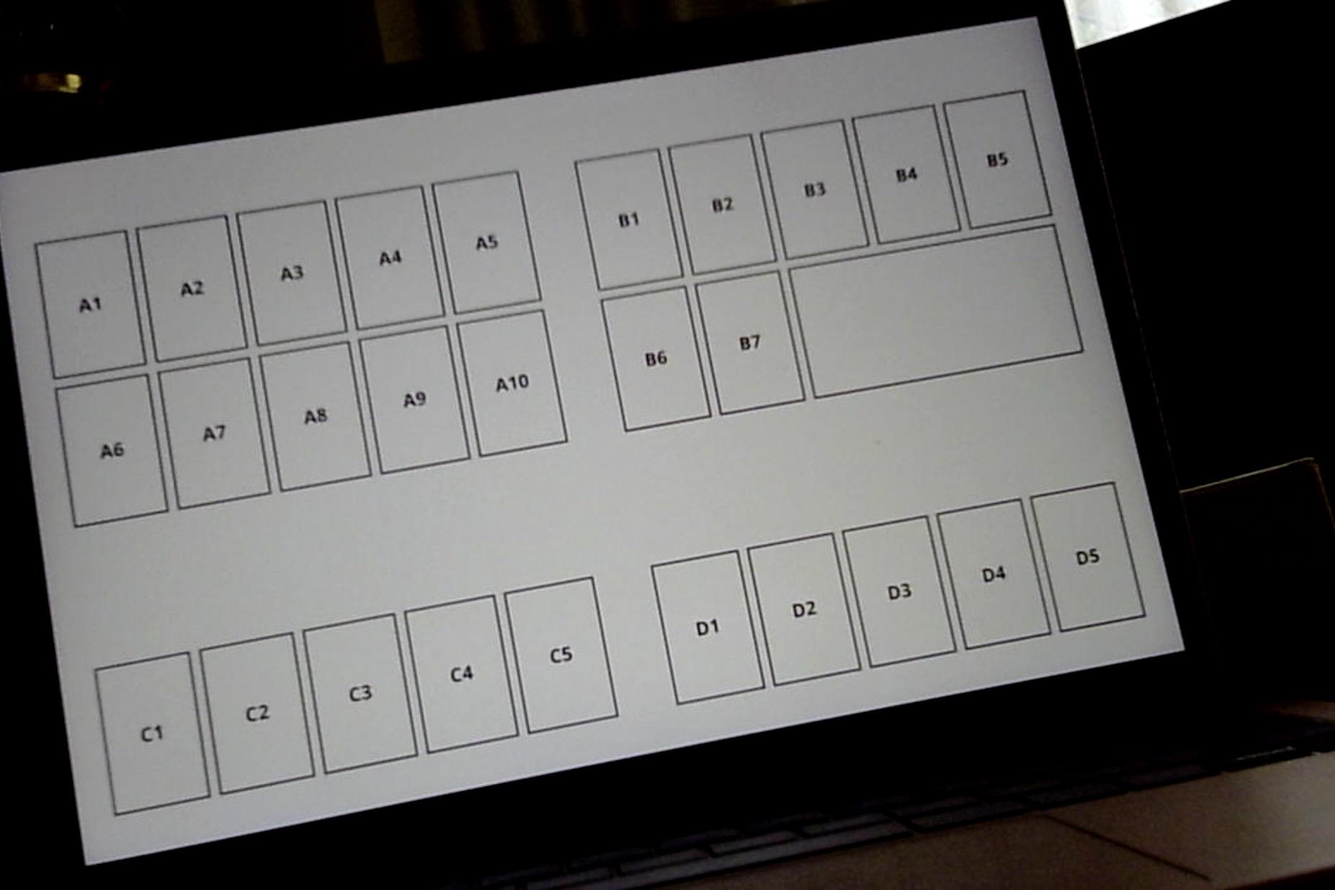parking space: (96, 652, 209, 814), (202, 635, 313, 794), (305, 614, 416, 770), (407, 597, 516, 752), (1031, 482, 1144, 631), (506, 579, 616, 731), (653, 551, 763, 703), (844, 516, 956, 665), (749, 534, 859, 685), (939, 499, 1050, 648), (161, 359, 269, 507), (58, 377, 164, 525), (263, 343, 369, 490), (138, 216, 246, 360), (37, 232, 144, 377), (361, 327, 468, 472), (461, 311, 565, 455), (433, 172, 539, 313), (603, 289, 709, 430), (240, 202, 345, 344), (338, 186, 443, 327), (697, 274, 802, 414), (577, 150, 681, 289), (670, 135, 774, 274), (946, 91, 1050, 228), (763, 121, 866, 258), (855, 106, 958, 243)
